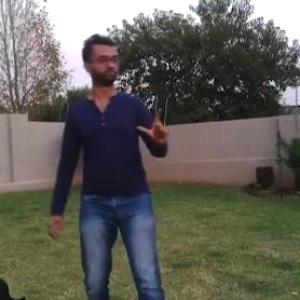land_hand: (133, 97, 176, 152)
